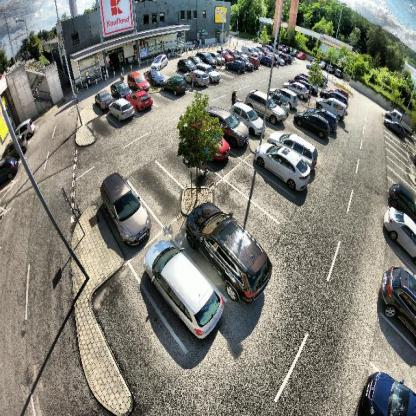free: (140, 162, 184, 230), (158, 147, 205, 195), (237, 170, 284, 218), (222, 196, 274, 236)
occupied: (190, 196, 270, 301), (145, 238, 222, 343), (98, 171, 158, 245), (383, 265, 416, 335), (250, 140, 302, 180), (378, 200, 415, 256), (190, 111, 229, 160), (277, 131, 317, 160), (246, 92, 283, 123), (216, 106, 248, 138), (233, 102, 264, 135), (387, 181, 415, 215), (295, 111, 329, 138), (110, 98, 134, 123), (164, 74, 186, 99), (277, 82, 300, 104), (126, 67, 147, 91), (132, 91, 152, 114), (94, 87, 111, 111), (187, 68, 208, 86), (202, 62, 220, 82), (113, 77, 130, 97), (146, 66, 162, 87), (151, 50, 167, 70), (179, 56, 194, 76), (226, 60, 245, 74), (199, 48, 214, 62), (190, 51, 203, 66)
